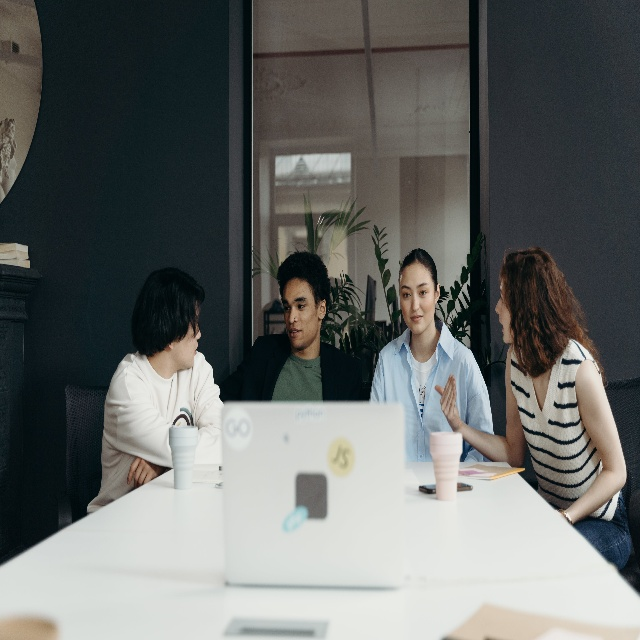Sin_guantes: (433, 373, 460, 422), (126, 456, 157, 484)
